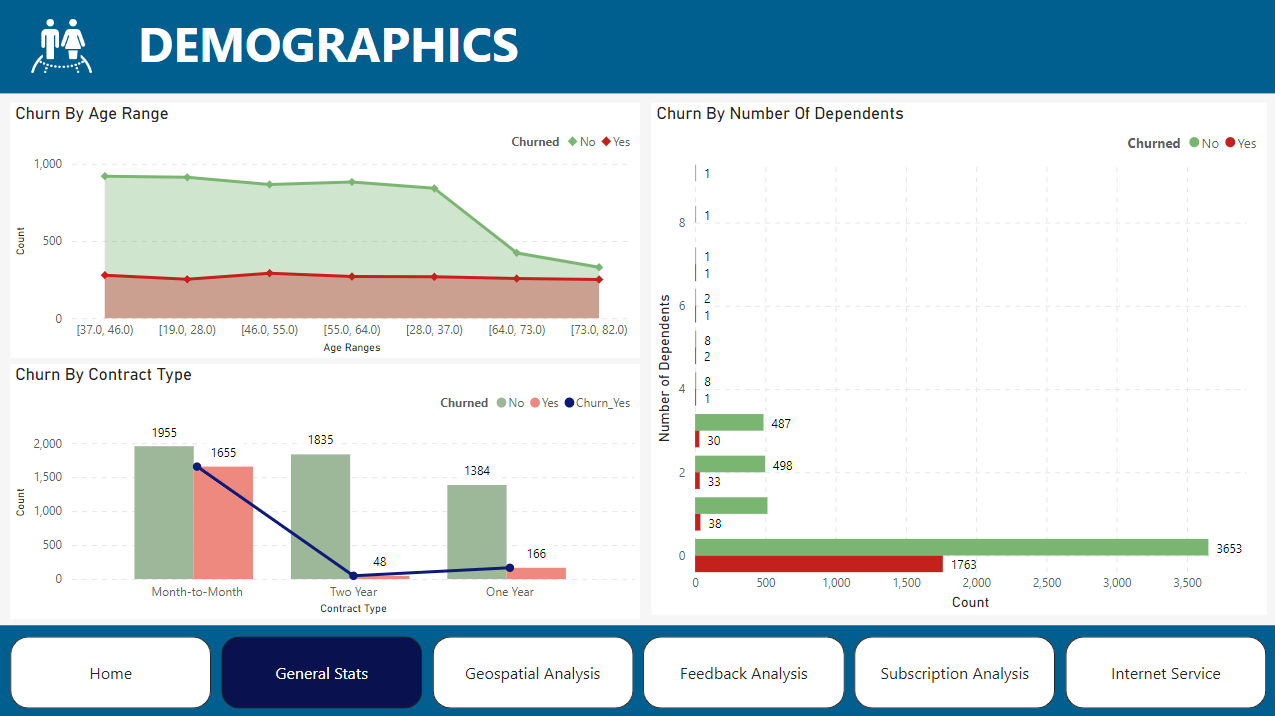

This screenshot's page, from the dashboard's own definition file:
{"tool":"powerbi","page":{"name":"General Stats","canvas":[1280,720],"ordinal":1},"visuals":[{"type":"shape","box":[0,0,1279.9,720],"z":0},{"type":"shape","box":[0,625.9,1279.9,94.1],"z":1000},{"type":"shape","box":[0,0,1279.9,94.1],"z":2000},{"type":"areaChart","title":"Churn By Age Range","fields":{"Category":["telecom_customer_churn_preprocessed_1.Age Bins"],"Y":["CountNonNull(telecom_customer_churn_preprocessed_1.Age Bins)"],"Series":["telecom_customer_churn_preprocessed_1.Churned"]},"box":[11,103.9,629.5,255],"z":3000},{"type":"clusteredBarChart","title":"Churn By Number Of Dependents","fields":{"Y":["CountNonNull(telecom_customer_churn_preprocessed_1.Number of Dependents)"],"Series":["telecom_customer_churn_preprocessed_1.Churned"],"Category":["telecom_customer_churn_preprocessed_1.Number of Dependents"]},"box":[652.8,103.9,614.9,512.2],"z":4000},{"type":"lineClusteredColumnComboChart","title":"Churn By Contract Type","fields":{"Category":["telecom_customer_churn_preprocessed_1.Contract"],"Y":["CountNonNull(telecom_customer_churn_preprocessed_1.Contract)"],"Series":["telecom_customer_churn_preprocessed_1.Churned"],"Y2":["telecom_customer_churn_preprocessed_1.Churn_Yes"]},"box":[11,365.5,629.5,255],"z":5000},{"type":"pageNavigator","box":[11,636.9,1256.6,72.1],"z":6000},{"type":"textbox","box":[133.2,6.1,931.5,81.9],"z":7000},{"type":"image","box":[25.7,11,73.3,73.3],"z":8000}]}

Visuals, with their boxes in screenshot pixels (x1, y1, x2, y2), scaled from the page's 1280x720 canvas onto the 1275x716 screenshot:
shape: x1=0 y1=0 x2=1274 y2=715
shape: x1=0 y1=622 x2=1274 y2=715
shape: x1=0 y1=0 x2=1274 y2=94
"Churn By Age Range" areaChart: x1=11 y1=103 x2=638 y2=357
"Churn By Number Of Dependents" clusteredBarChart: x1=650 y1=103 x2=1263 y2=613
"Churn By Contract Type" lineClusteredColumnComboChart: x1=11 y1=363 x2=638 y2=617
pageNavigator: x1=11 y1=633 x2=1263 y2=705
textbox: x1=133 y1=6 x2=1061 y2=88
image: x1=26 y1=11 x2=99 y2=84
